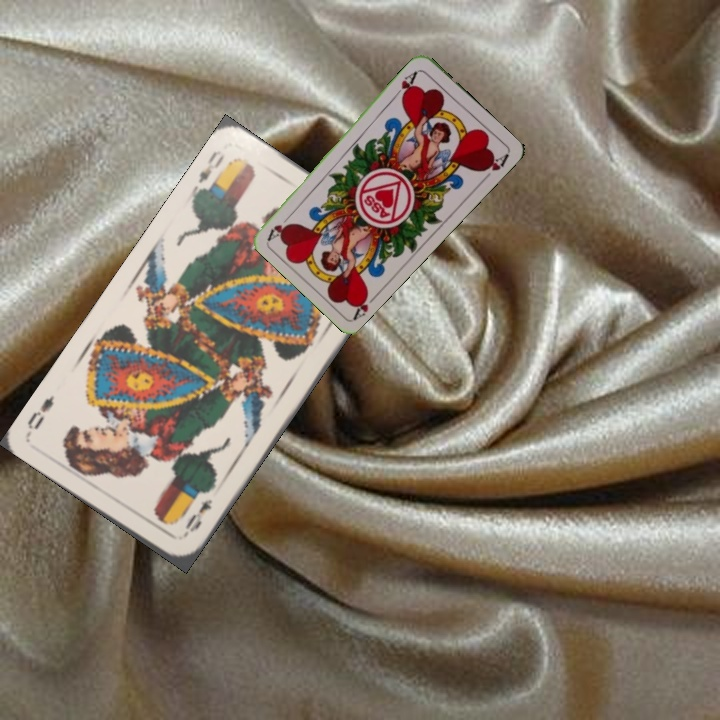EO: (188, 146, 233, 197), (178, 495, 215, 540)
HA: (349, 287, 382, 322), (390, 66, 421, 101)
